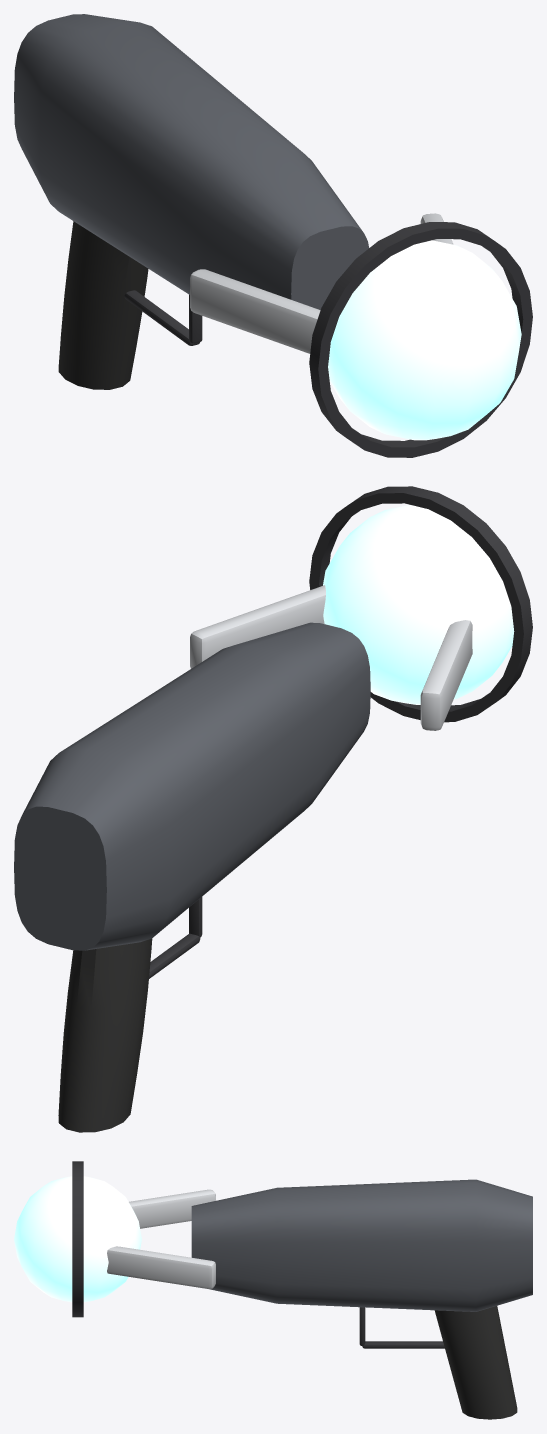
File: gleipnir.glb
The picture shows the model from 3 angles, top to bottom: view 1: azimuth 30°, elevation 25°; view 2: azimuth 150°, elevation 25°; view 3: azimuth 270°, elevation 25°; orthographic projection. The views are drawn at different scales.
Parts seen in each view (by area): view 1: Body; view 2: Body; view 3: Body.
Part boxes in pixels (<box>): Body: <box>14,14,532,457</box>; Body: <box>14,486,532,1132</box>; Body: <box>14,1161,532,1419</box>.
Bounding box in the file's own units: 0.1284 × 0.1875 × 0.365.
